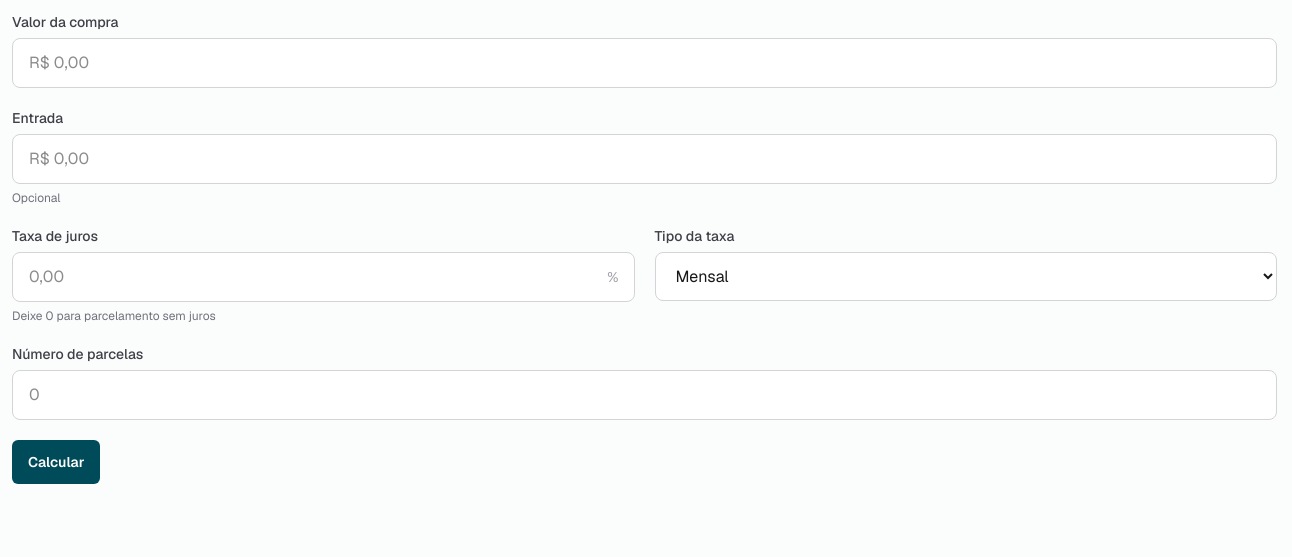
ParcelamentoTool — validações › mostra erros quando o formulário está vazio
Click the button "Calcular".
click(56, 462)  # box [12,440,100,484]
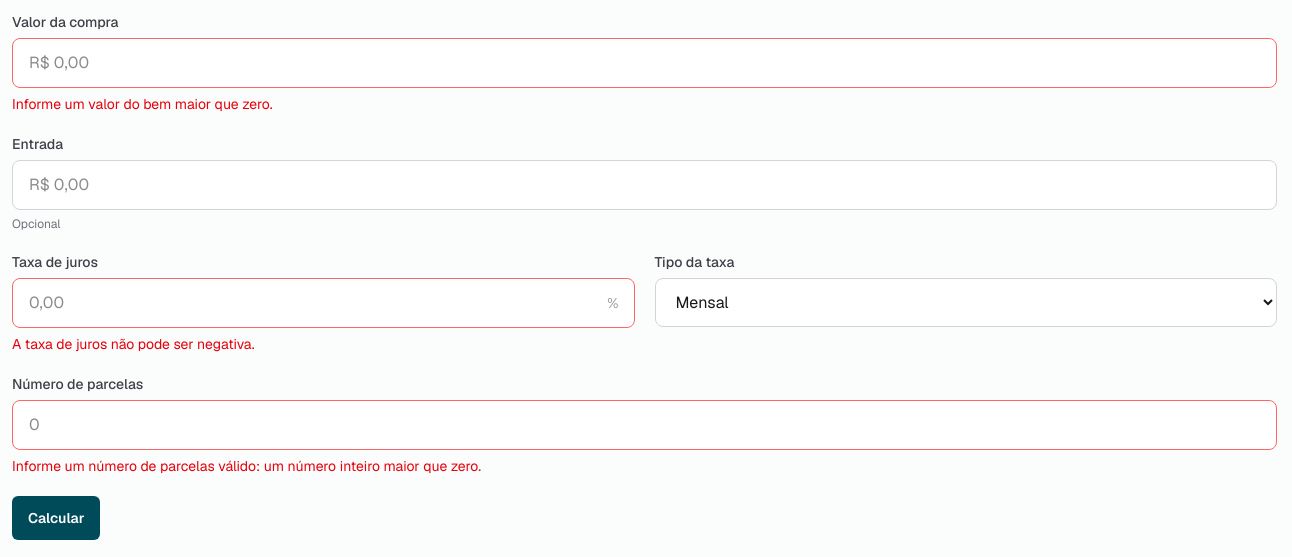
Expected: the text "Informe um valor do bem maior que zero." is shown, [12,95,273,113]
